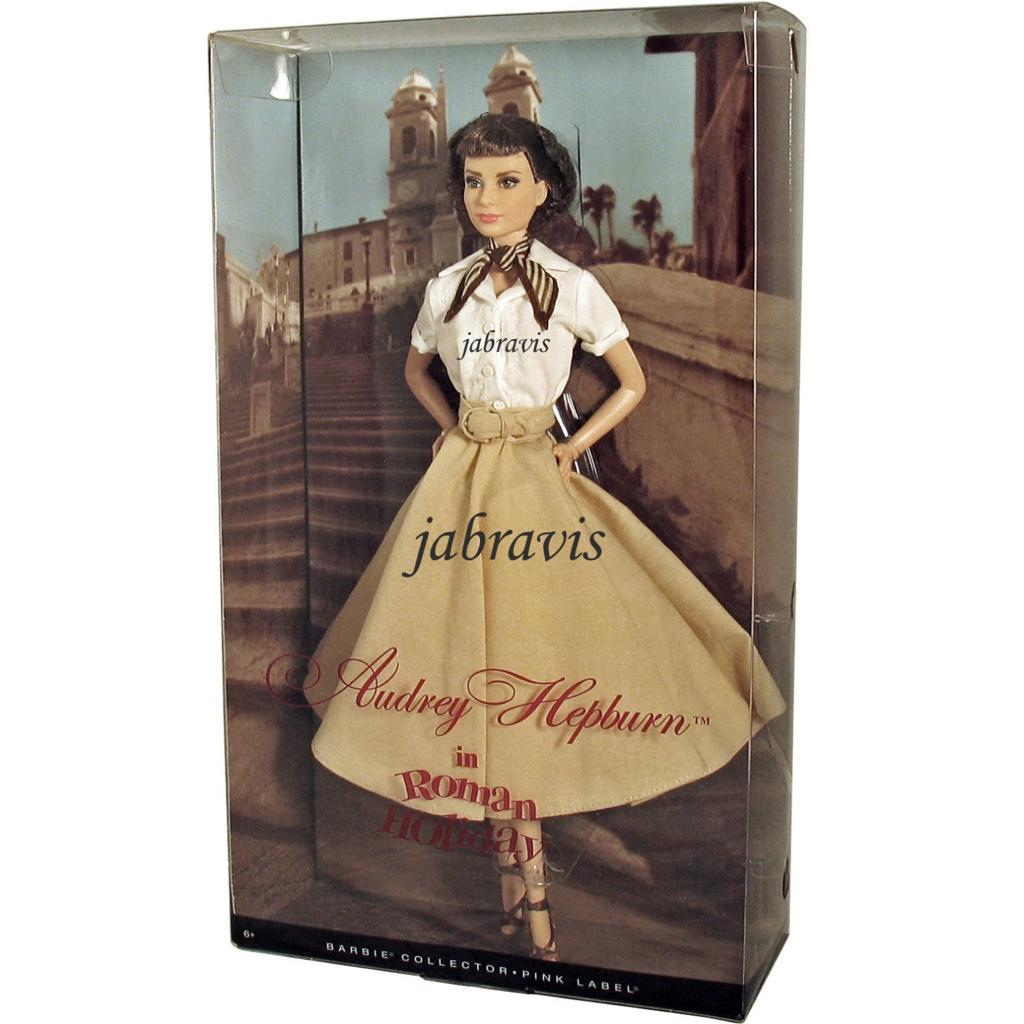face: (464, 142, 536, 238)
